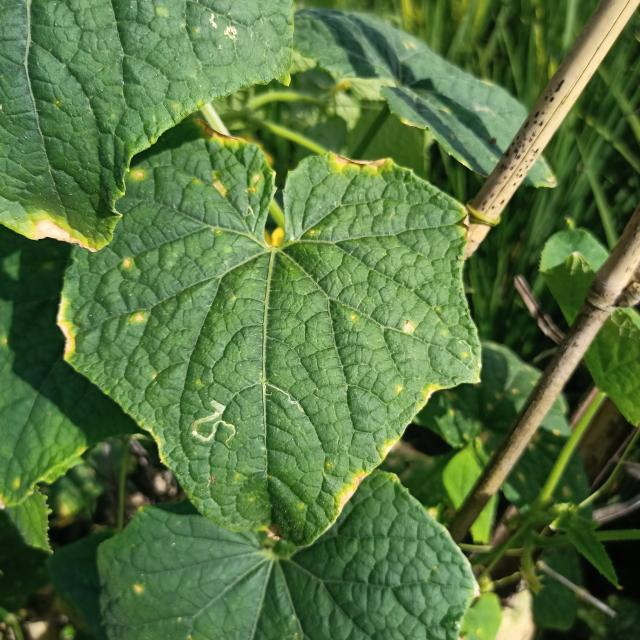disease_cucumber: (208, 134, 270, 200), (394, 377, 443, 404), (130, 310, 147, 328), (400, 319, 416, 338), (121, 258, 135, 270)
